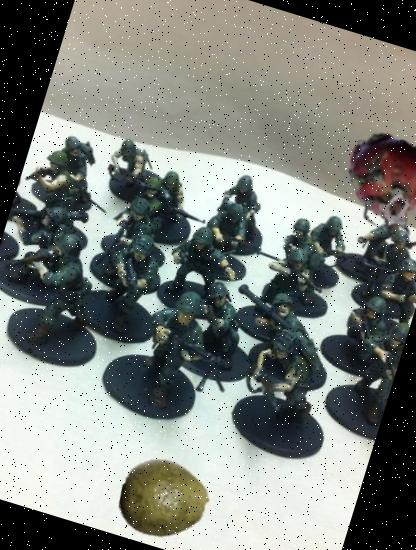Guava: (109, 444, 219, 550)
Pitahaya: (322, 113, 416, 252)
